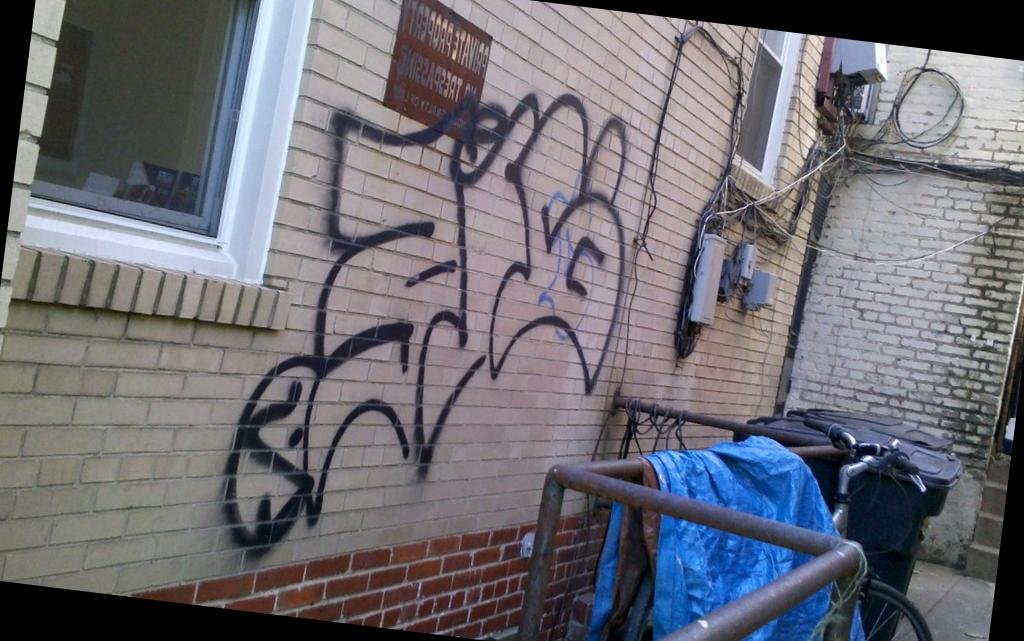graffiti: (224, 93, 626, 555)
